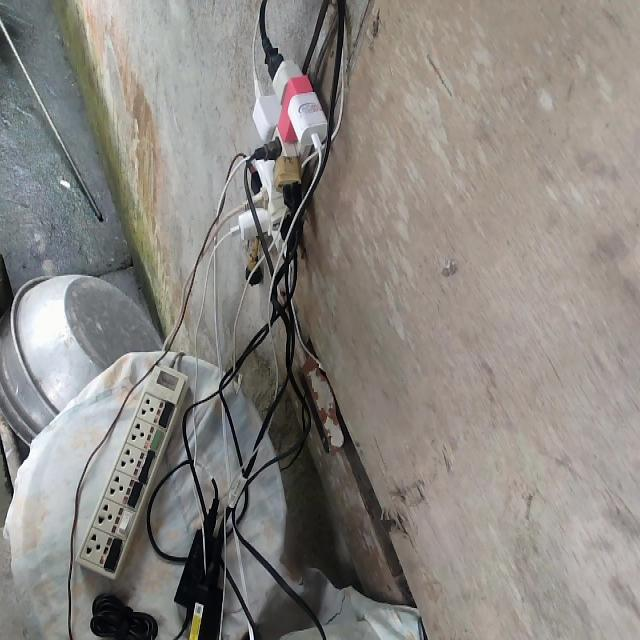-: (228, 36, 333, 267)
